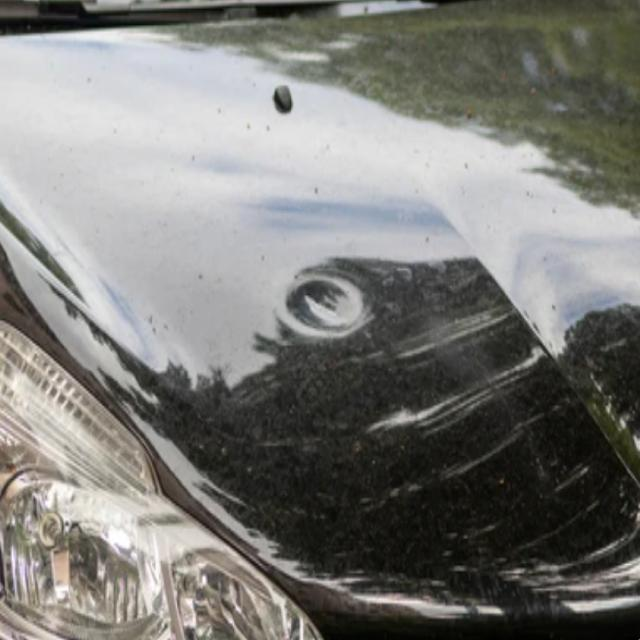dents: (268, 258, 374, 342)
